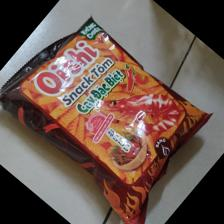Oishi_Cay: (1, 15, 216, 224)
